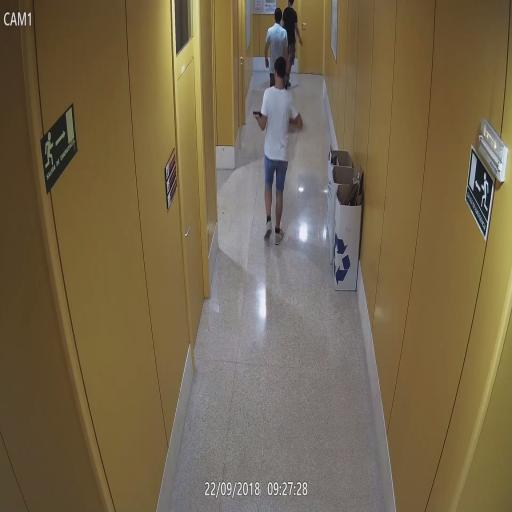Handgun: (298, 35, 305, 47)
